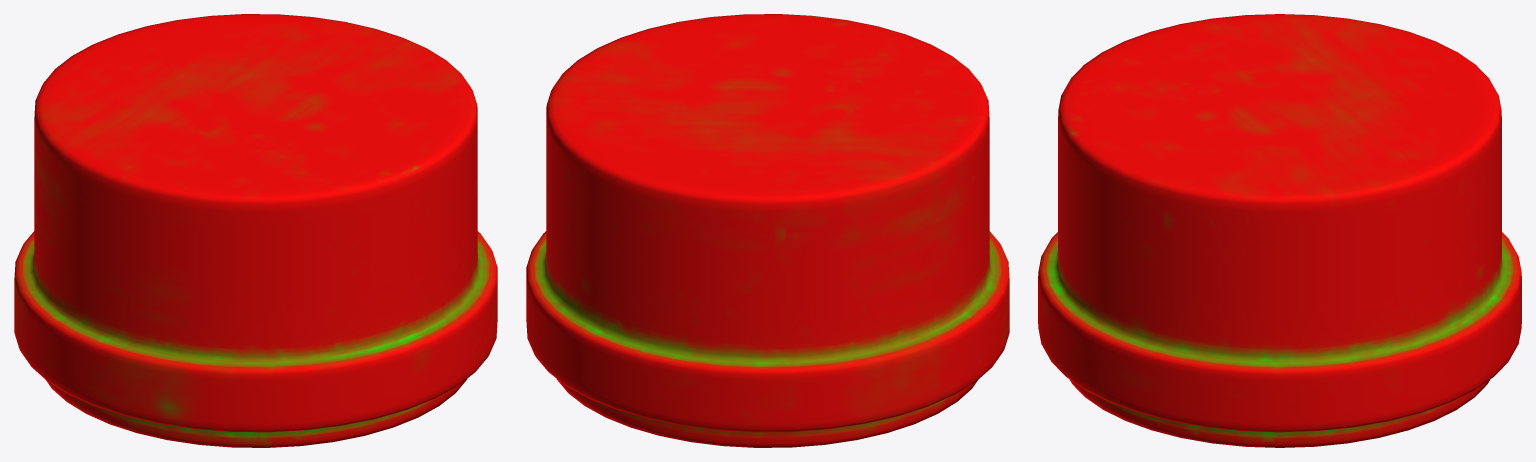
Rendered from SM_PlasticPipe_connection_01.fbx.
3 views of the same model, side by side, from view 1: azimuth 30°, elevation 25°; view 2: azimuth 150°, elevation 25°; view 3: azimuth 270°, elevation 25° (orthographic).
Visible parts, largest first — view 1: SM_PlasticPipe_connection_01_LOD0; view 2: SM_PlasticPipe_connection_01_LOD0; view 3: SM_PlasticPipe_connection_01_LOD0.
Boxes of the visible parts, bbox=[...] form: SM_PlasticPipe_connection_01_LOD0: bbox=[14, 14, 497, 447]; SM_PlasticPipe_connection_01_LOD0: bbox=[526, 14, 1009, 447]; SM_PlasticPipe_connection_01_LOD0: bbox=[1038, 14, 1521, 447].
Bounding box in the file's own units: 17.4 × 17.4 × 10.01.
